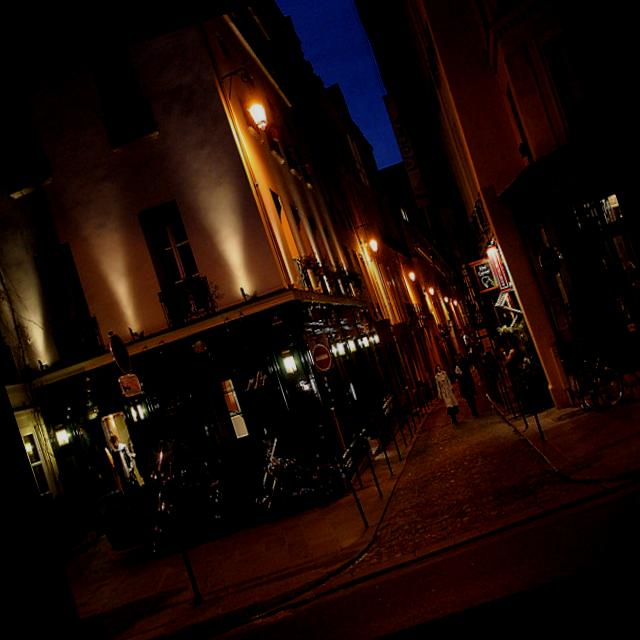Vehicle: (120, 428, 236, 559), (235, 412, 348, 523)
